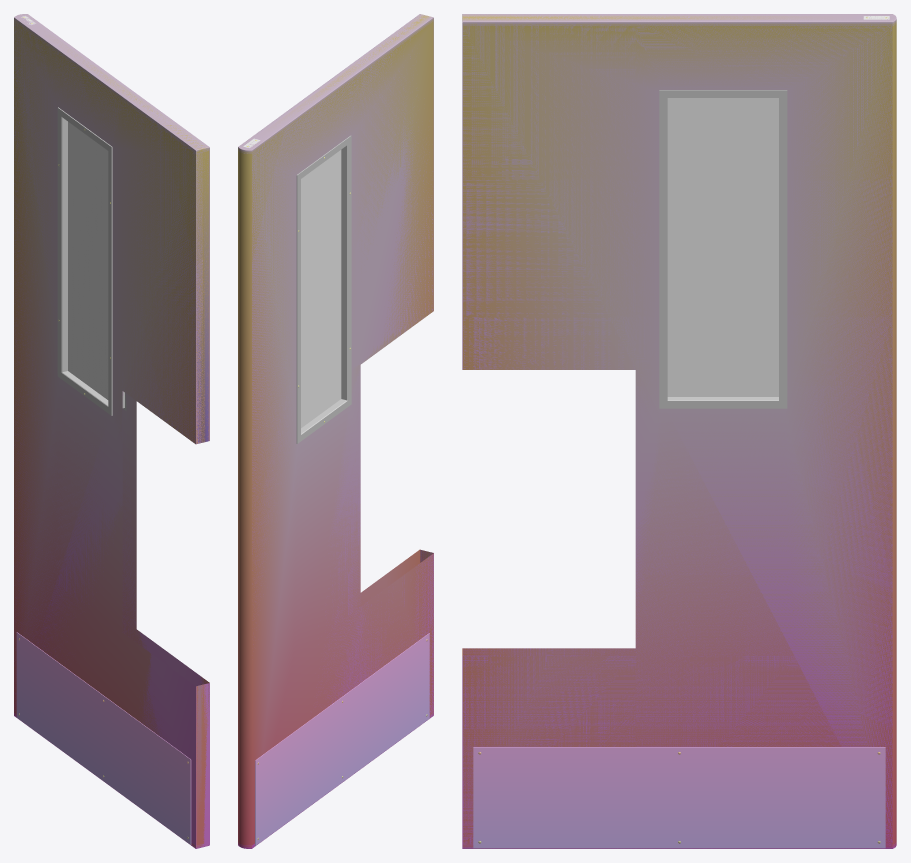
Rendered from Kit_DoorLeafBreak_Steel_DA.fbx.
3 views of the same model, side by side, from view 1: azimuth 30°, elevation 25°; view 2: azimuth 150°, elevation 25°; view 3: azimuth 270°, elevation 25° (orthographic). The views are drawn at different scales.
Visible parts, largest first — view 1: body_L0, body_L2, body_L1; view 2: body_L0, body_L2, body_L1; view 3: body_L0, body_L2, body_L1.
Part boxes in pixels (<box>): body_L0: <box>14,14,209,848</box>; body_L2: <box>14,15,209,848</box>; body_L1: <box>15,14,209,848</box>; body_L0: <box>238,14,433,848</box>; body_L2: <box>238,17,433,847</box>; body_L1: <box>240,14,432,562</box>; body_L0: <box>462,14,896,848</box>; body_L2: <box>462,14,896,848</box>; body_L1: <box>462,14,895,656</box>.
Bounding box in the file's own units: 0.0498 × 2.08 × 0.99.
